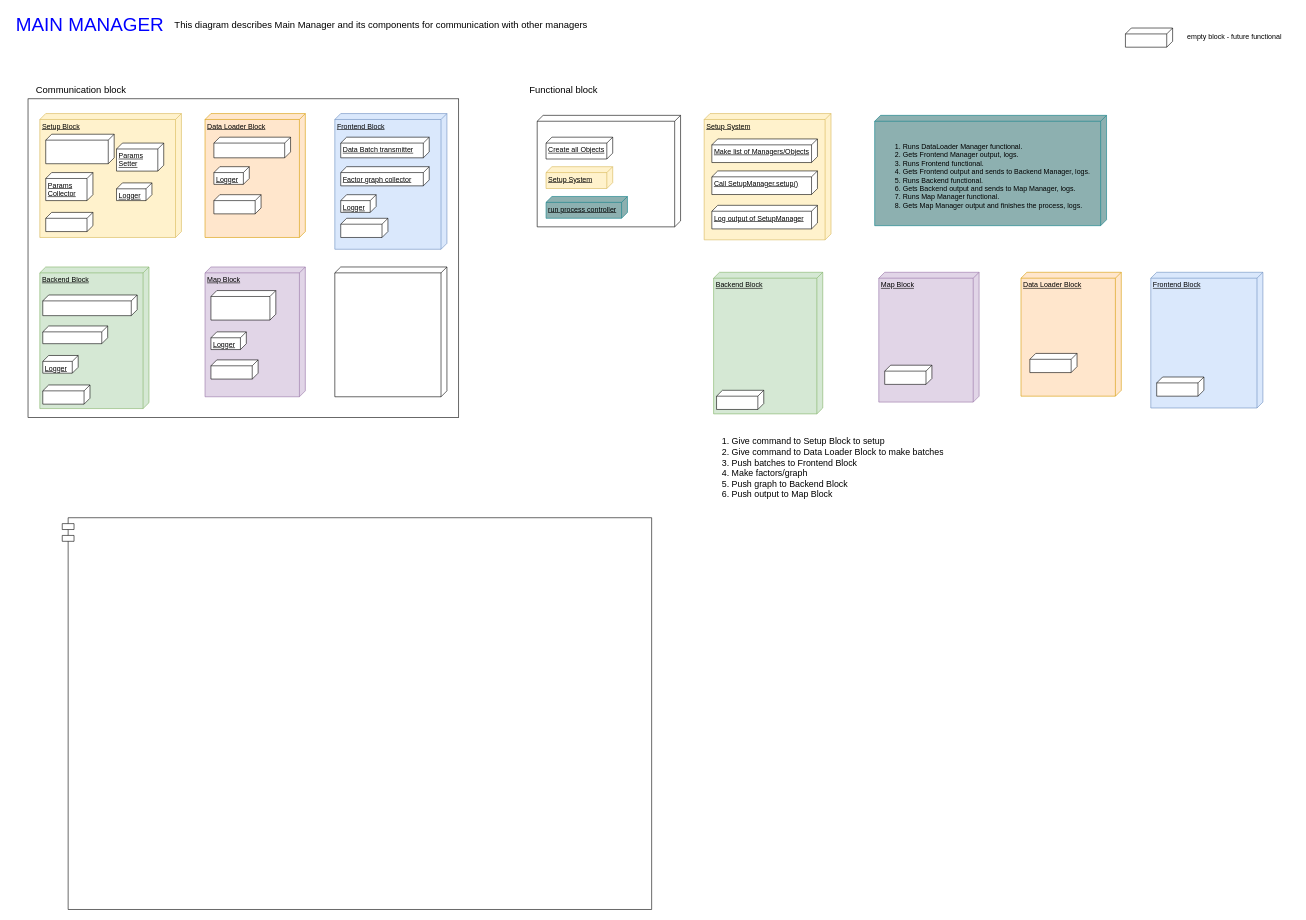
The diagram is 1306 pixels wide and 920 high, and some of its shapes have lost their labels. The box of each missing label's shape, as (x1, y1, x2, y2) in pixels:
Common Block: (537, 115, 681, 227)
Data Batch collector: (213, 137, 291, 158)
Extra Block: (334, 266, 447, 397)
Graph transmitter-reciever: (42, 294, 137, 316)
High-level graph transmitter: (210, 290, 276, 320)
List of Managers/Objects: (45, 134, 114, 164)
MainManager: (62, 517, 652, 909)
Metrics collector: (42, 325, 108, 344)
Process Controller: (874, 115, 1107, 226)
